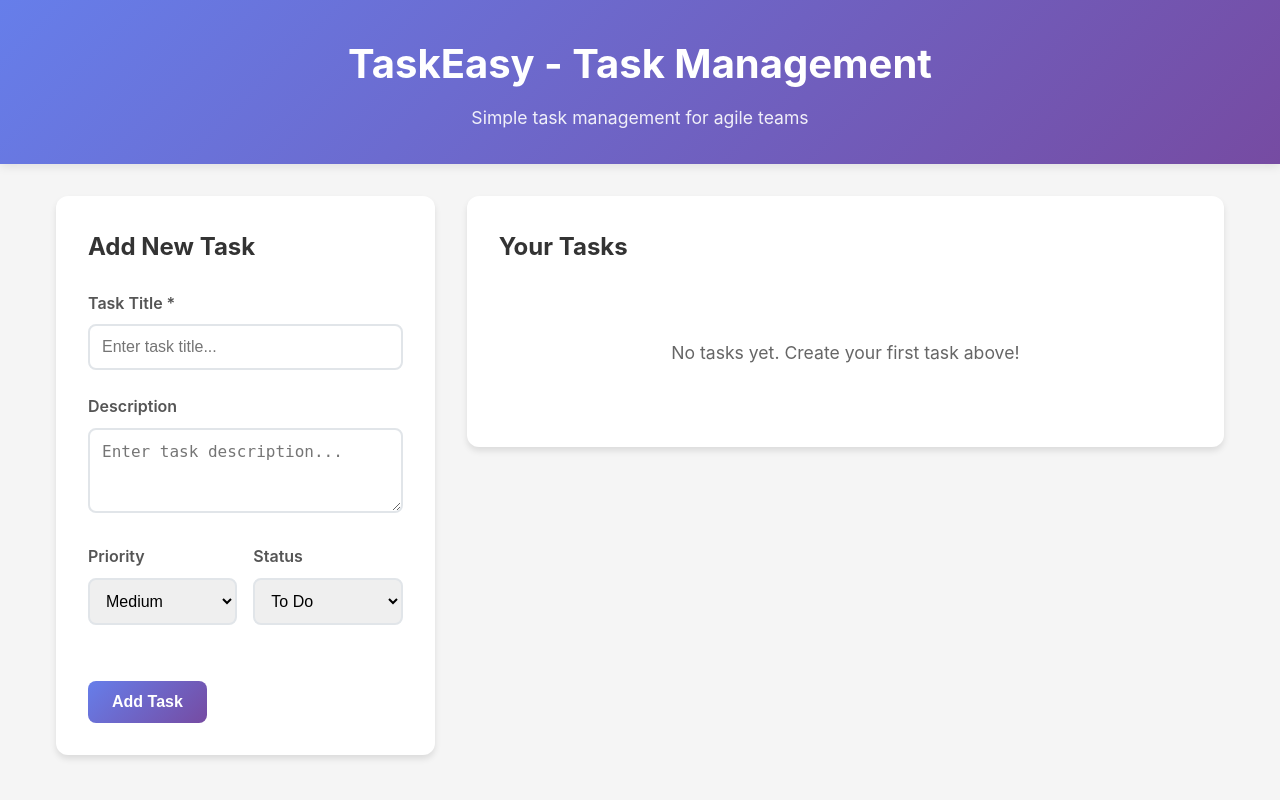
Test: App Integration Tests › bisa menambah task baru dan tersimpan di localStorage
Type "New Task" into the field labelled "Task Title *" at (245, 347), box [88,324,403,370]
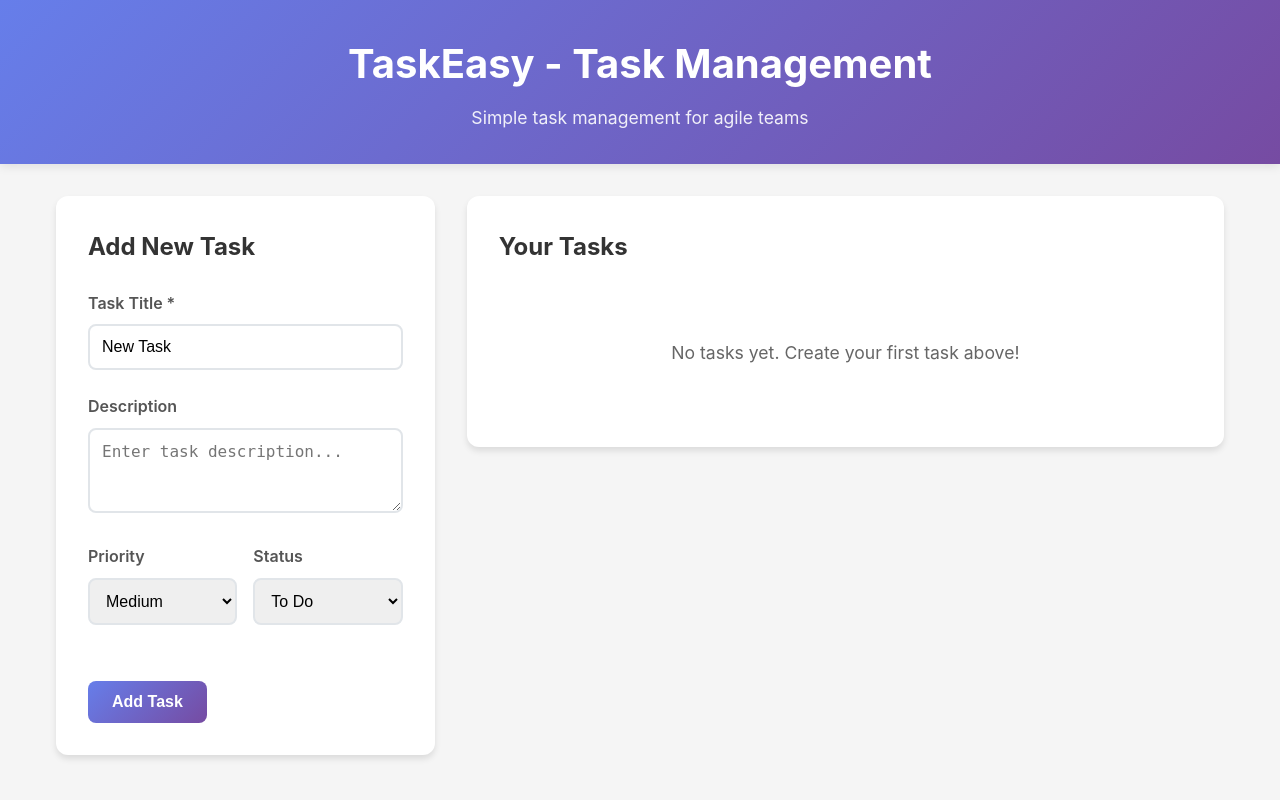
Click the button "Add Task" at (147, 702), box [88,681,207,723]
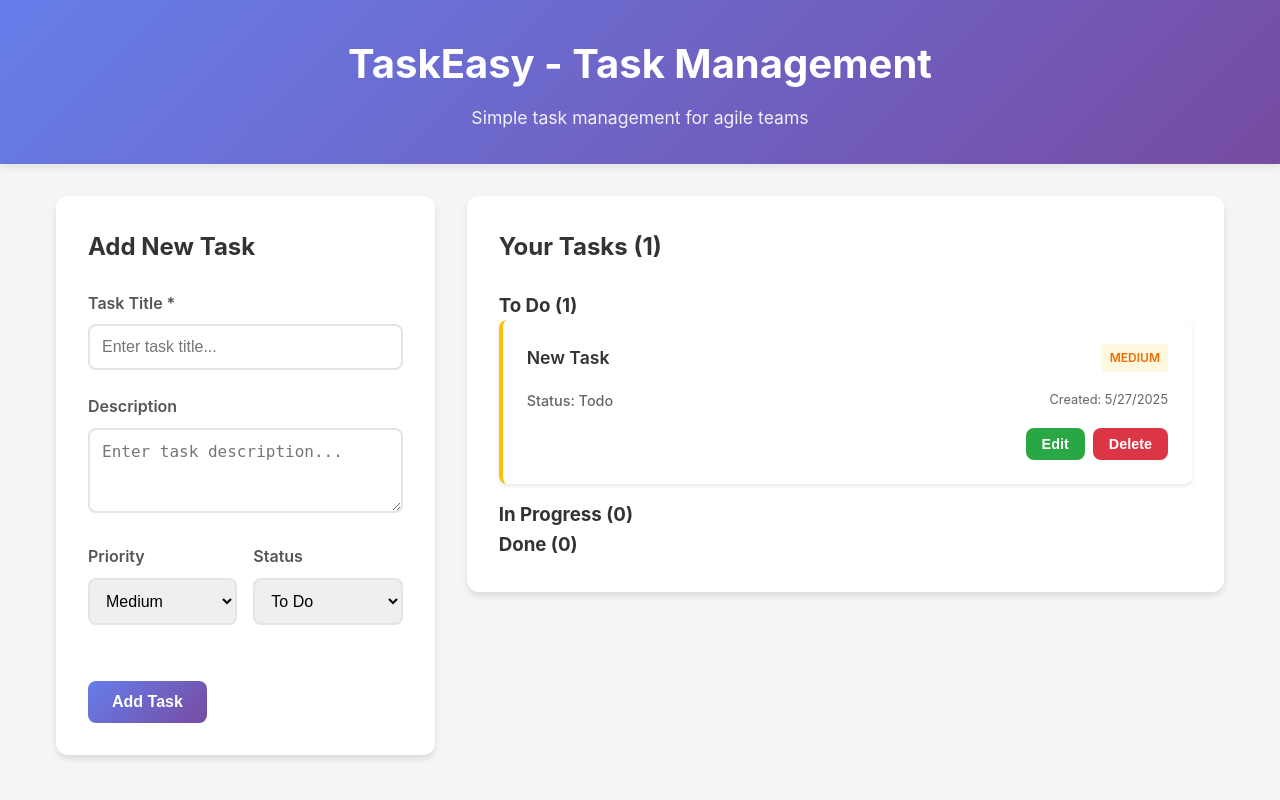
Expected: the heading "New Task" is shown, [527,348,610,368]
